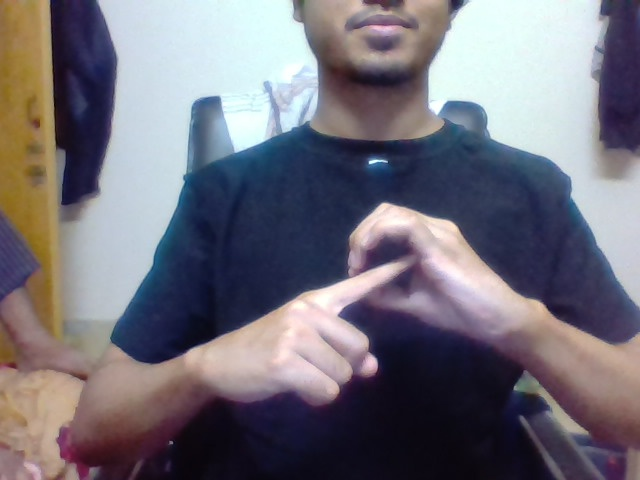Q: (348, 225, 431, 319)
